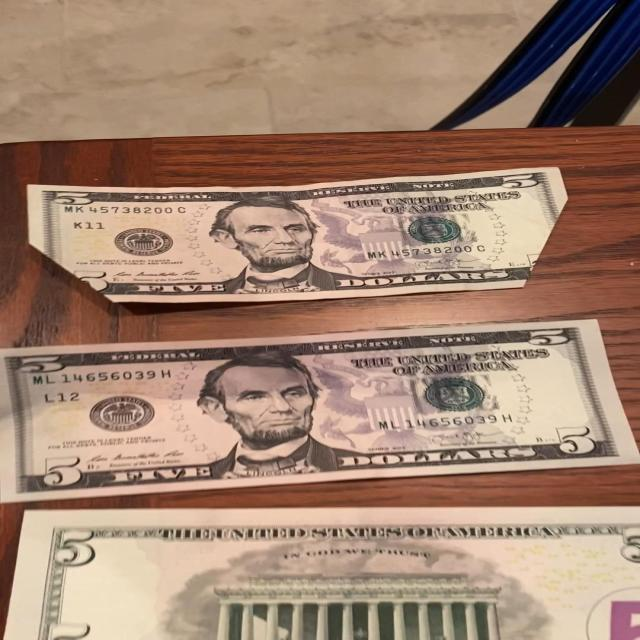5-Back: (1, 506, 639, 640)
5-Front: (0, 319, 640, 506), (28, 165, 569, 303)
